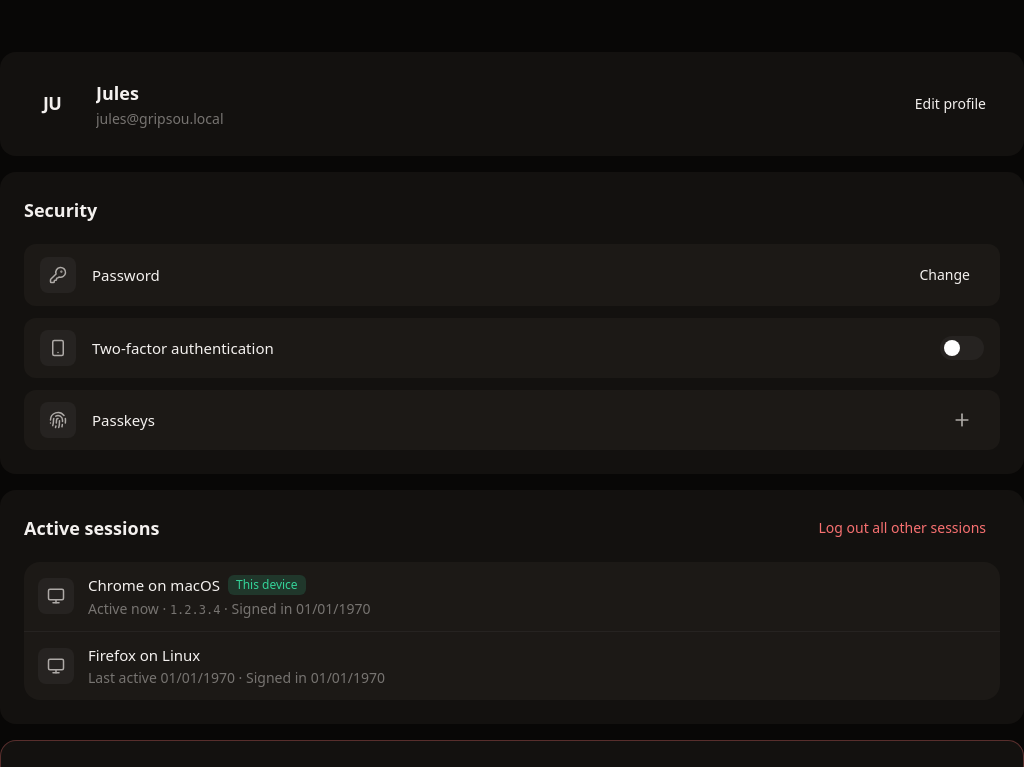
Test case: SettingsAccount passkeys row › opens the add window from the plus button
Click the button named "Add passkey" at point(962, 420), box [940,405,984,435]
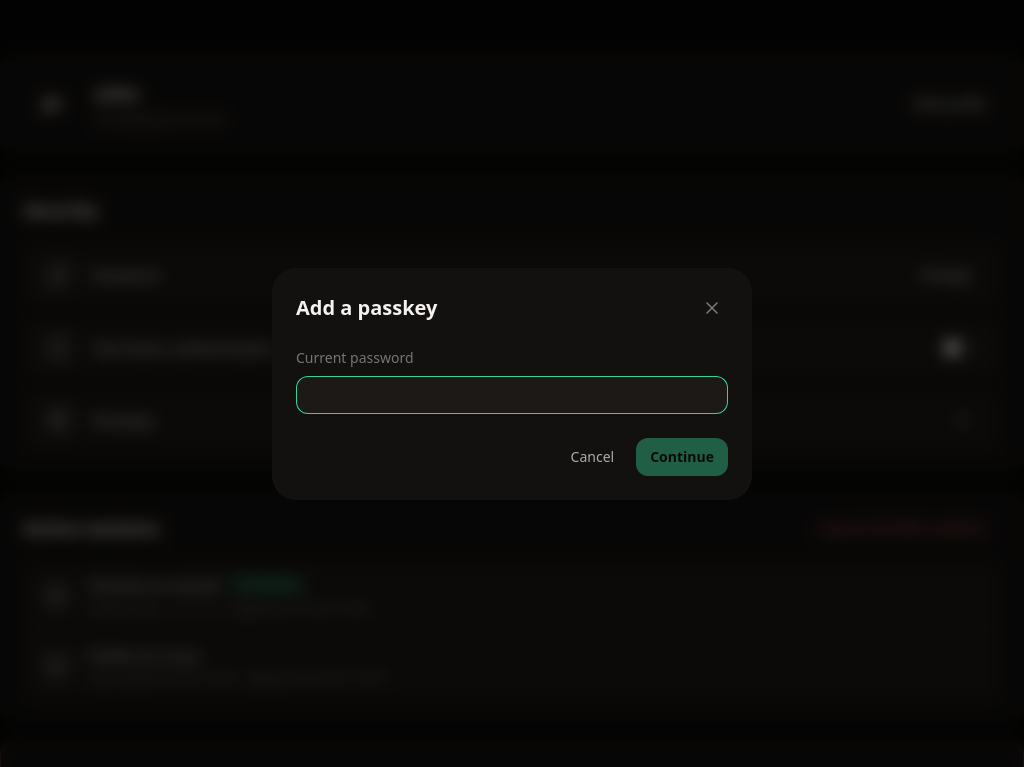
Result: the dialog "Add a passkey" is shown at [272,268,752,500]
